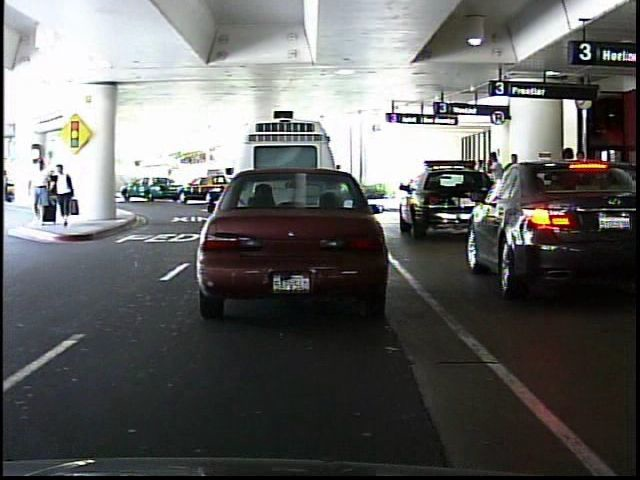person: (482, 147, 513, 221), (52, 160, 77, 229), (31, 154, 53, 225), (328, 157, 349, 202), (161, 164, 180, 198), (2, 168, 17, 207)
